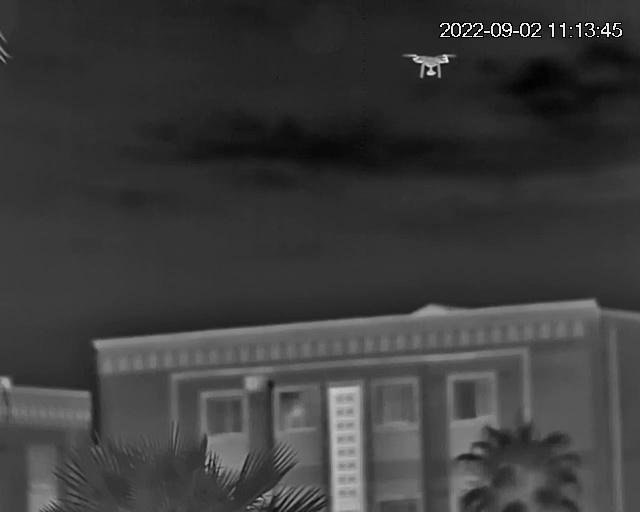DJI-Phantom: (405, 48, 460, 83)
